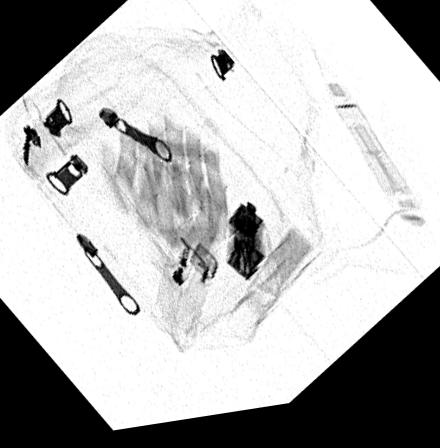Lighter: (147, 236, 218, 344)
